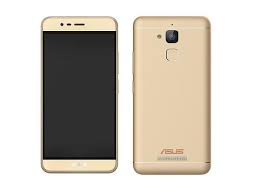asus: (128, 12, 214, 178), (37, 9, 119, 177)
